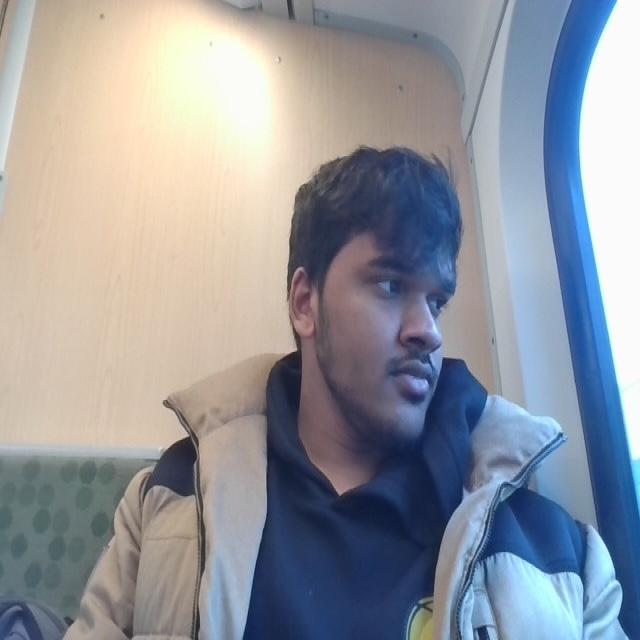no hat: (289, 137, 467, 239)
